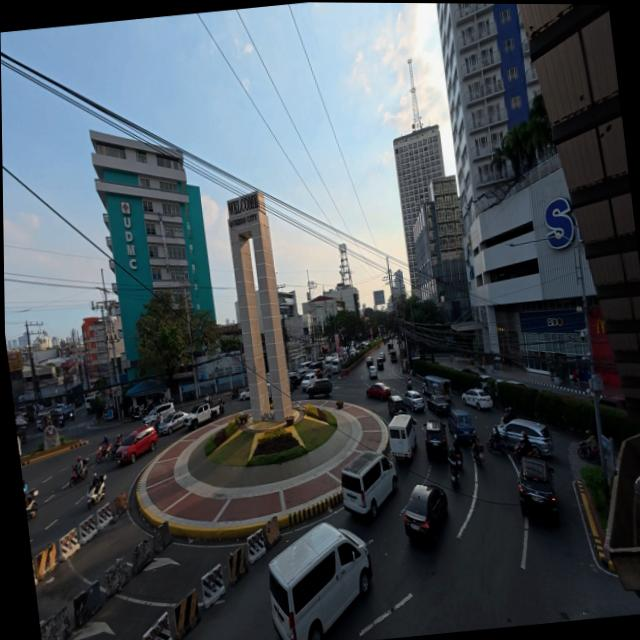car: (396, 482, 452, 553), (512, 451, 561, 527), (486, 412, 554, 463), (110, 426, 159, 464), (154, 407, 197, 434), (142, 401, 177, 427), (460, 387, 494, 412), (304, 377, 335, 401), (300, 370, 328, 394), (403, 387, 426, 411), (365, 380, 391, 401), (56, 404, 78, 422), (365, 356, 381, 378), (288, 368, 305, 386), (14, 412, 29, 430), (239, 388, 252, 400)
motorcycle: (23, 486, 41, 521)
trucks: (189, 399, 218, 425)
vans: (265, 514, 383, 640), (336, 446, 403, 523), (386, 411, 423, 465)
